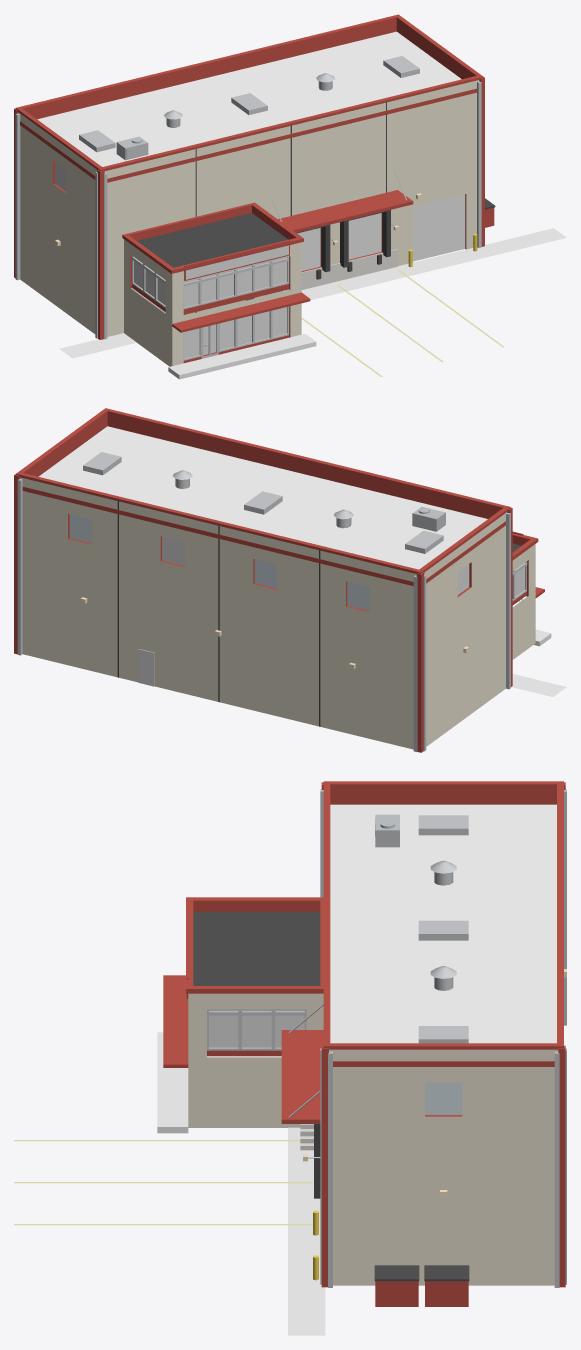
The model's file is industrial_urban100s.glb.
3 views of the same model, one above another, from view 1: azimuth 30°, elevation 25°; view 2: azimuth 150°, elevation 25°; view 3: azimuth 270°, elevation 25° (orthographic). The views are drawn at different scales.
Visible parts, largest first — view 1: industrial_urban100s_Walls, industrial_urban100s_Trim, industrial_urban100s_Roof, industrial_urban100s_Site, industrial_urban100s_Roof2, industrial_urban100s_WindowsLit, industrial_urban100s_Doors, industrial_urban100s_Frames, industrial_urban100s_Details, industrial_urban100s_Walls2, industrial_urban100s_Brand, industrial_urban100s_Paint; view 2: industrial_urban100s_Walls, industrial_urban100s_Roof, industrial_urban100s_Trim, industrial_urban100s_Details, industrial_urban100s_Frames, industrial_urban100s_Glass, industrial_urban100s_WindowsLit, industrial_urban100s_Roof2, industrial_urban100s_Site, industrial_urban100s_Doors; view 3: industrial_urban100s_Walls, industrial_urban100s_Roof, industrial_urban100s_Trim, industrial_urban100s_Roof2, industrial_urban100s_Site, industrial_urban100s_Details, industrial_urban100s_Frames, industrial_urban100s_WindowsLit, industrial_urban100s_Paint, industrial_urban100s_Glass.
Boxes of the visible parts, box(x1,y1,x2,y2) form: industrial_urban100s_Walls: box(19, 80, 479, 366); industrial_urban100s_Trim: box(14, 14, 494, 363); industrial_urban100s_Roof: box(37, 31, 461, 166); industrial_urban100s_Site: box(59, 228, 566, 379); industrial_urban100s_Roof2: box(137, 102, 495, 312); industrial_urban100s_WindowsLit: box(55, 162, 287, 358); industrial_urban100s_Doors: box(297, 194, 465, 270); industrial_urban100s_Frames: box(79, 56, 419, 360); industrial_urban100s_Details: box(15, 73, 481, 346); industrial_urban100s_Walls2: box(245, 249, 398, 300); industrial_urban100s_Brand: box(186, 245, 288, 279); industrial_urban100s_Paint: box(301, 270, 504, 377); industrial_urban100s_Walls: box(20, 477, 535, 749); industrial_urban100s_Roof: box(38, 426, 487, 569); industrial_urban100s_Trim: box(14, 408, 544, 752); industrial_urban100s_Details: box(17, 470, 510, 751); industrial_urban100s_Frames: box(83, 452, 527, 601); industrial_urban100s_Glass: box(69, 514, 369, 610); industrial_urban100s_WindowsLit: box(162, 536, 524, 596); industrial_urban100s_Roof2: box(117, 501, 521, 726); industrial_urban100s_Site: box(511, 629, 566, 696); industrial_urban100s_Doors: box(138, 649, 154, 686); industrial_urban100s_Walls: box(188, 993, 558, 1285); industrial_urban100s_Roof: box(330, 804, 556, 1043); industrial_urban100s_Trim: box(163, 781, 565, 1306); industrial_urban100s_Roof2: box(193, 912, 469, 1281); industrial_urban100s_Site: box(157, 1032, 325, 1335); industrial_urban100s_Details: box(288, 789, 566, 1287); industrial_urban100s_Frames: box(207, 815, 468, 1050); industrial_urban100s_WindowsLit: box(209, 1010, 304, 1047); industrial_urban100s_Paint: box(14, 1140, 312, 1225); industrial_urban100s_Glass: box(425, 1082, 462, 1114).
Size of what is drawn, in the model's own units: 130 by 43.1 by 88.8.
